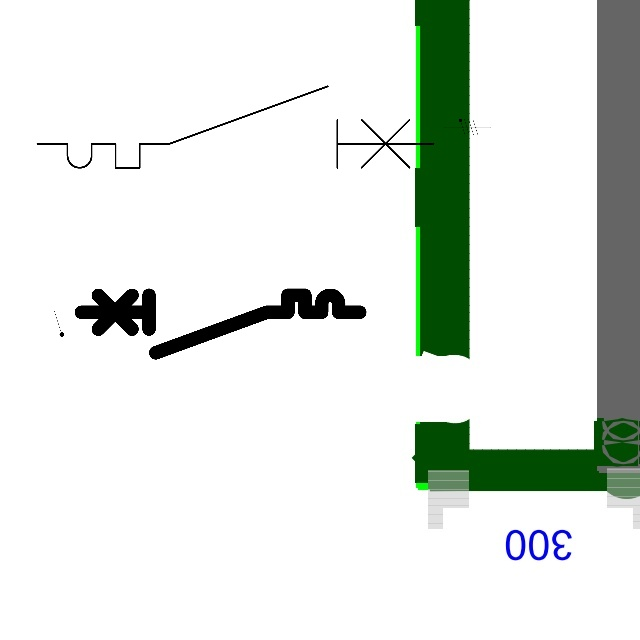interruptor_termomagnetico: (27, 76, 443, 178), (74, 288, 367, 359)
